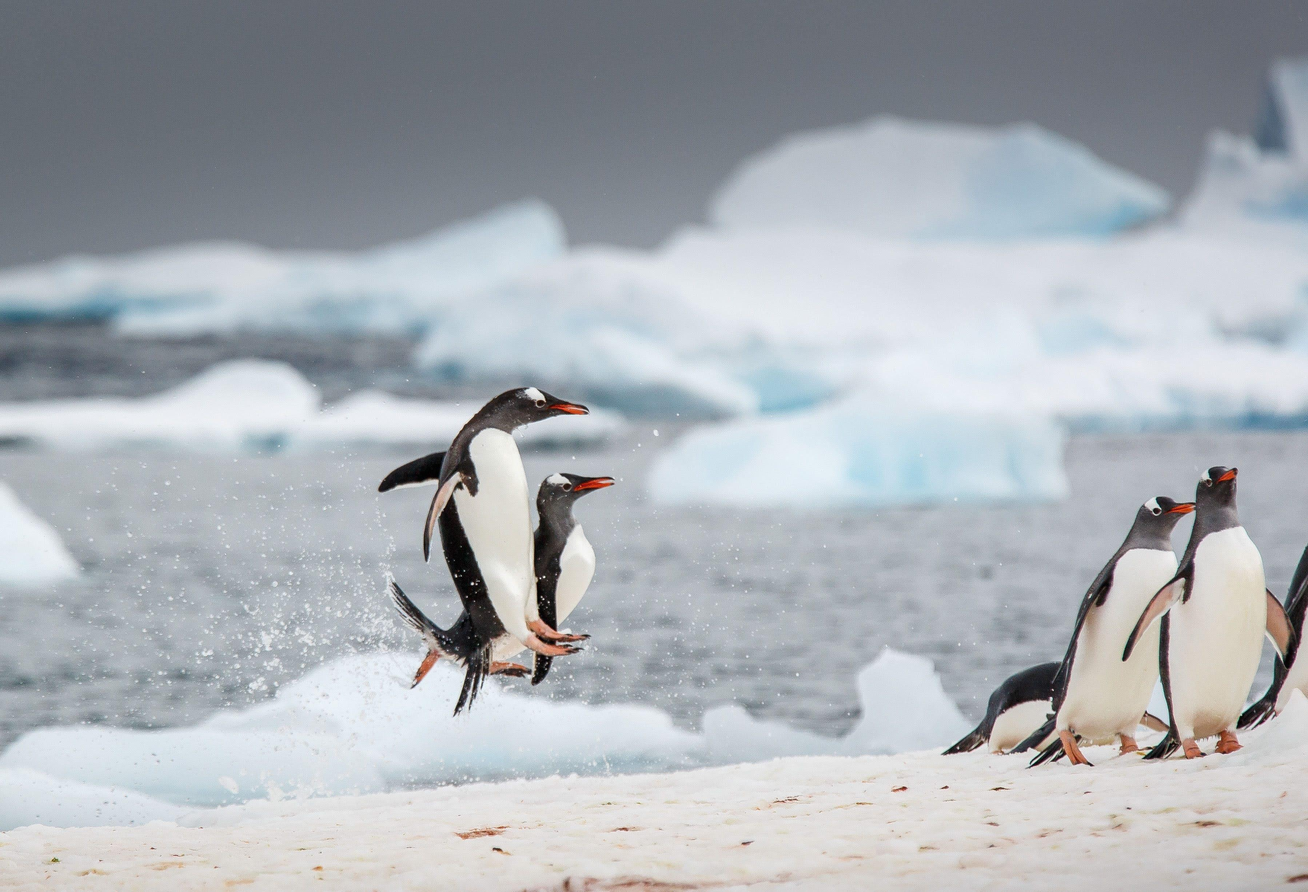Penguin: (380, 388, 587, 715), (1122, 465, 1299, 759), (1006, 495, 1196, 767), (492, 472, 613, 686), (940, 661, 1171, 756), (1235, 542, 1308, 731)
